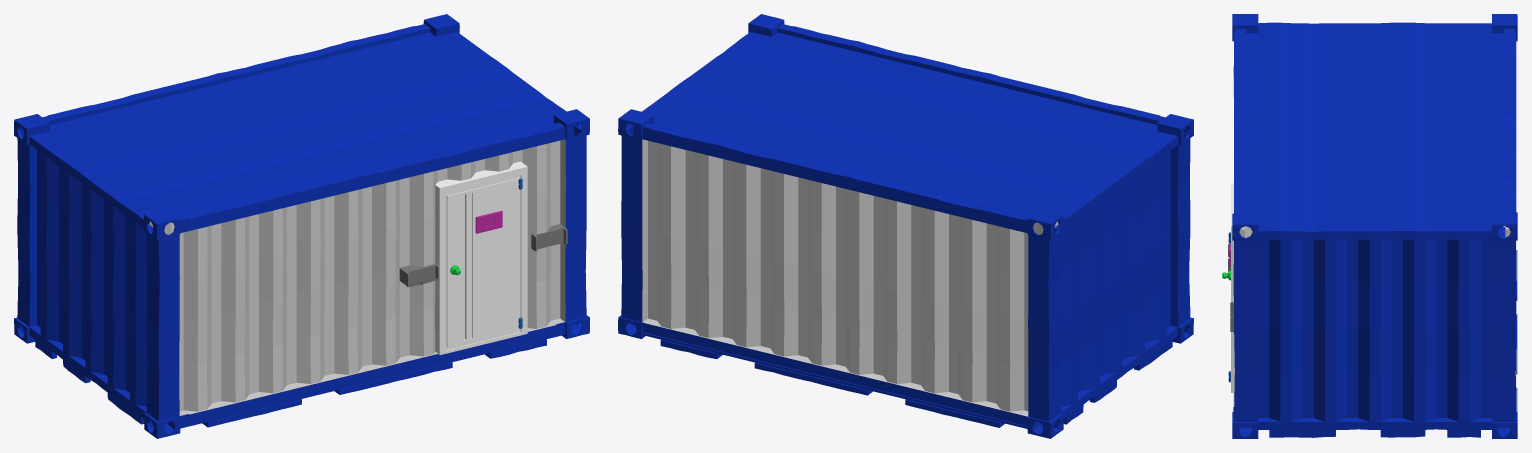
The model's file is Container_low.fbx.
The picture shows the model from 3 angles, left to right: view 1: azimuth 30°, elevation 25°; view 2: azimuth 150°, elevation 25°; view 3: azimuth 270°, elevation 25°; orthographic projection.
Visible parts, largest first — view 1: Container_low, ContainerDoor_low, ContainerPedestal_low; view 2: Container_low; view 3: Container_low, ContainerDoor_low.
Part boxes in pixels (box(x1,y1,x2,y2)): Container_low: box(14, 14, 589, 438); ContainerDoor_low: box(435, 161, 527, 354); ContainerPedestal_low: box(399, 224, 567, 287); Container_low: box(618, 14, 1193, 438); Container_low: box(1232, 14, 1517, 438); ContainerDoor_low: box(1222, 183, 1252, 392).
Size of the model in its own units: 455 by 270 by 219.
